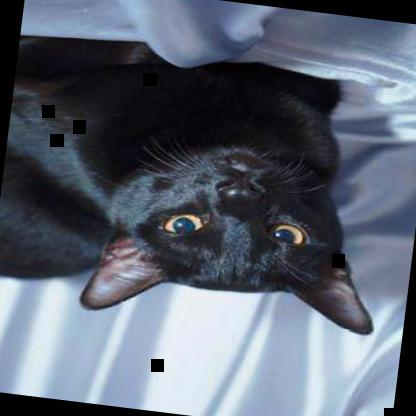cat: (0, 25, 408, 347)
